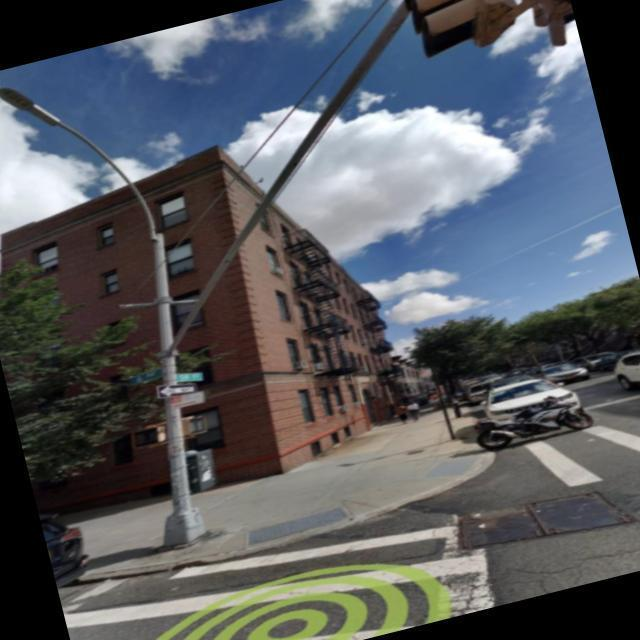off: (0, 73, 172, 318), (340, 0, 628, 120)
